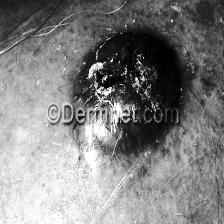Benign Marking or Mole: (71, 27, 179, 150)
